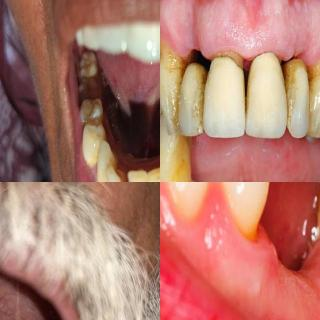Gum Swelling: (160, 182, 272, 264), (165, 21, 285, 58), (283, 24, 320, 63)
stains: (182, 65, 210, 139), (160, 49, 180, 132), (283, 59, 304, 131), (309, 56, 320, 130), (87, 148, 103, 176)
